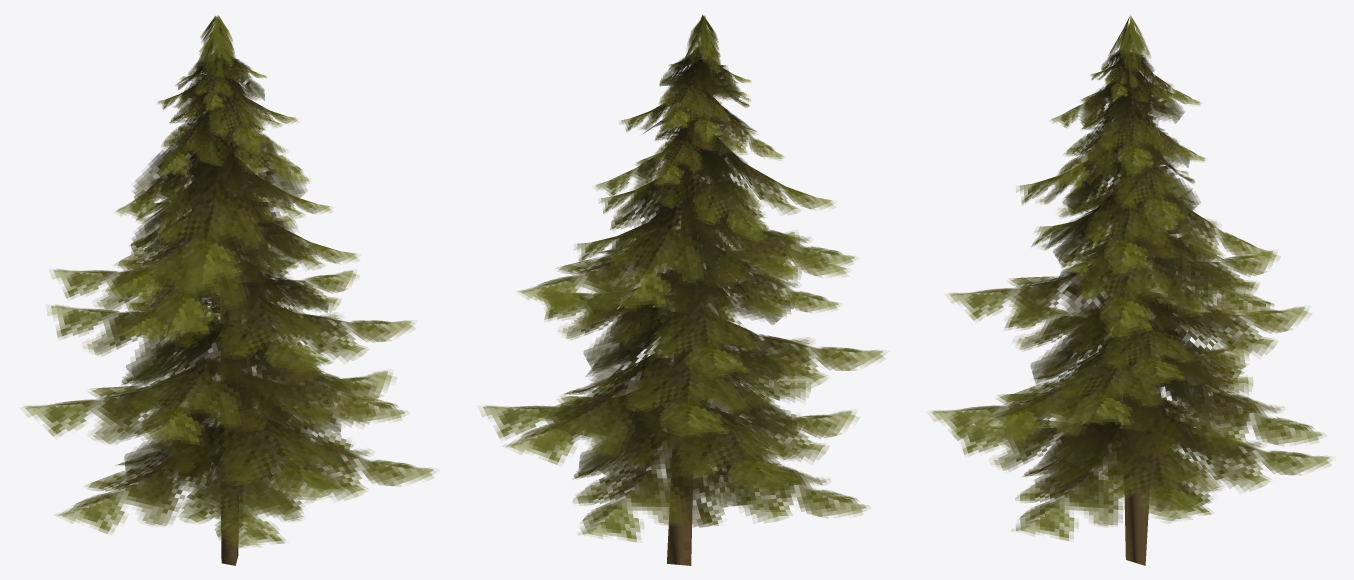
File: tree-pine.lod2.glb
The picture shows the model from 3 angles, left to right: view 1: azimuth 30°, elevation 25°; view 2: azimuth 150°, elevation 25°; view 3: azimuth 270°, elevation 25°; orthographic projection. The views are drawn at different scales.
Parts seen in each view (by area): view 1: Leaves/001_Leavs_0, Trank.001_Trank_0; view 2: Leaves/001_Leavs_0, Trank.001_Trank_0; view 3: Leaves/001_Leavs_0, Trank.001_Trank_0.
Part boxes in pixels (x1,y1,x2,y2): Leaves/001_Leavs_0: (23,15,435,549); Trank.001_Trank_0: (218,49,240,565); Leaves/001_Leavs_0: (480,15,885,541); Trank.001_Trank_0: (667,53,704,565); Leaves/001_Leavs_0: (930,15,1332,540); Trank.001_Trank_0: (1123,43,1148,565).
Bounding box in the file's own units: 11.99 × 17 × 11.99.
Materials: 2 (2 with a texture image).
